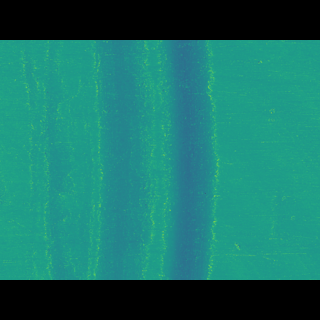Loch: (21, 69, 220, 249)
